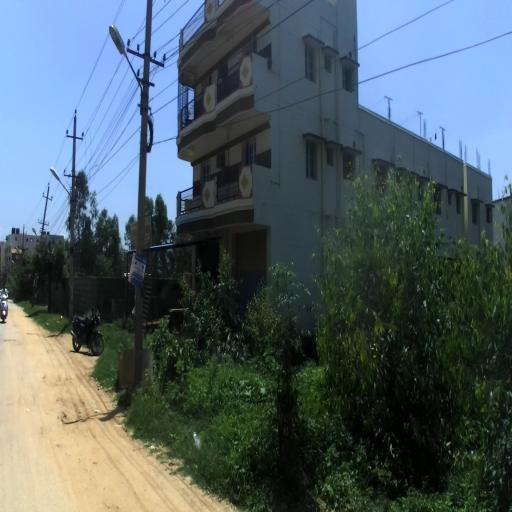street_light_0: (108, 24, 151, 116), (50, 166, 76, 220), (32, 226, 41, 242), (16, 246, 23, 262), (12, 260, 14, 263)
